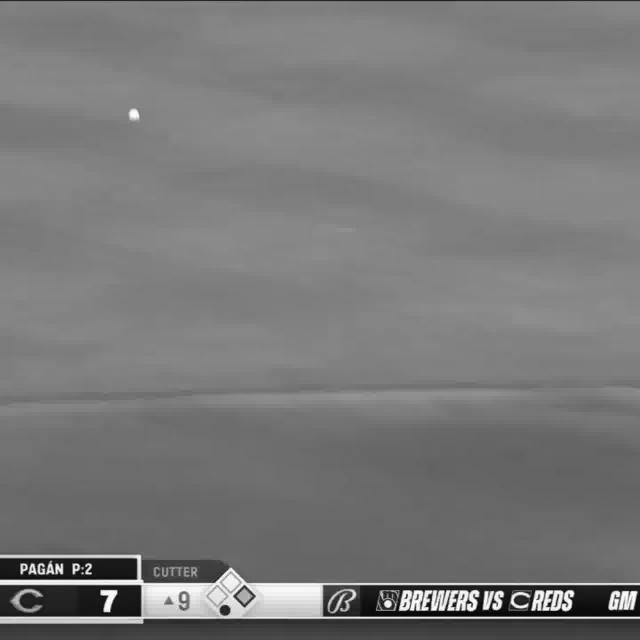baseball: (128, 113, 142, 120)
